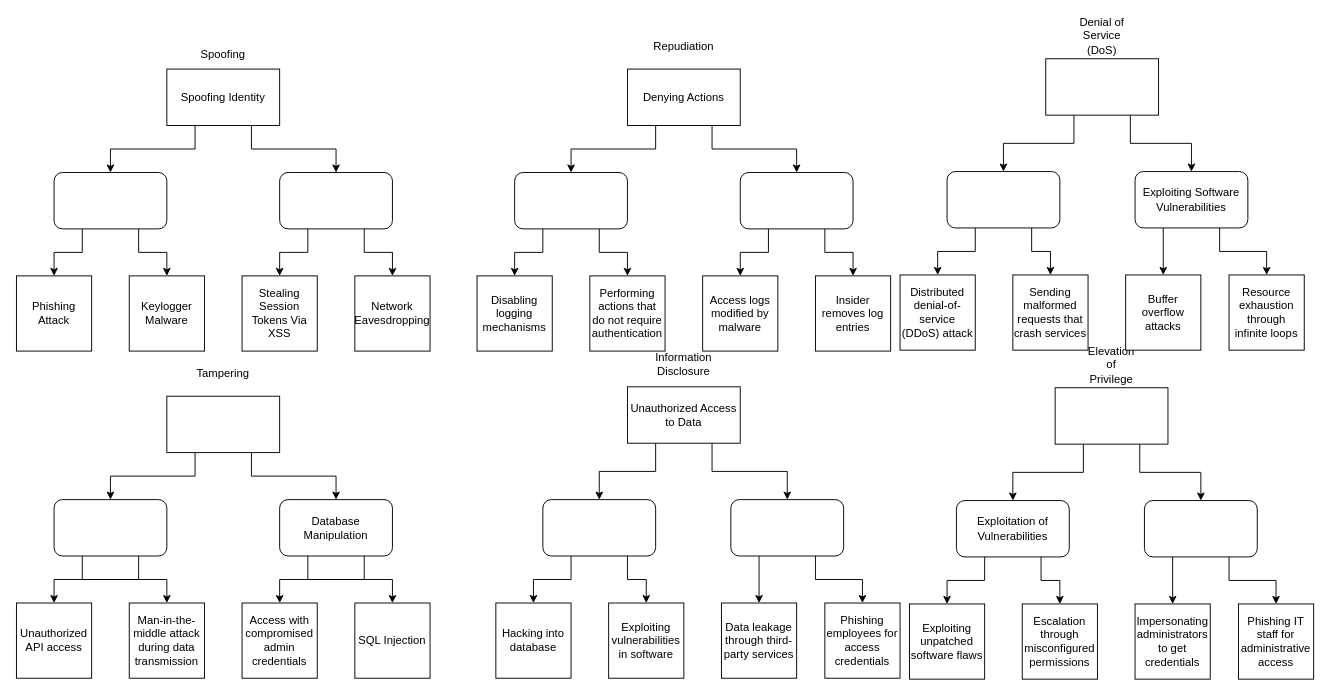
This 1330x696 diagram has some shape labels left out. Each missing label, with the centre of its shape:
Altering or Deleting Logs: (x=796, y=200)
Credentials Theft: (x=110, y=200)
Direct Data Breach: (x=599, y=527)
Disruption of Service: (x=1102, y=86)
Flooding the Server: (x=1003, y=199)
Gaining Higher Privilege's: (x=1111, y=415)
Indirect Exposure: (x=787, y=527)
Intercept and Alter Data: (x=110, y=527)
Session Hijacking: (x=335, y=200)
Social Engineering: (x=1200, y=528)
Tampering with Data: (x=223, y=424)
Transactions without Trace: (x=570, y=200)
